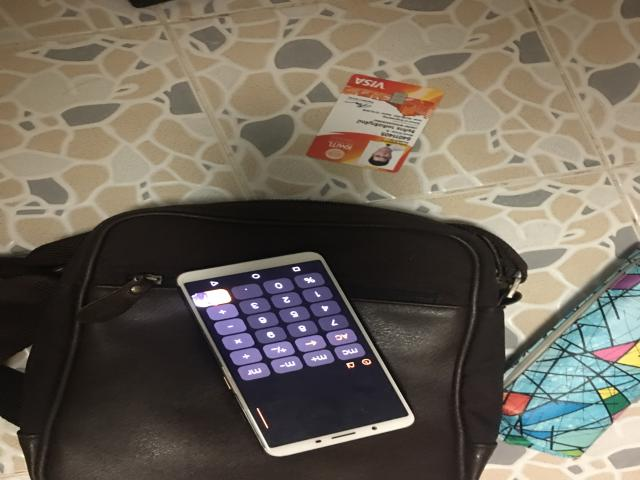Mobile phone: (177, 252, 413, 457)
